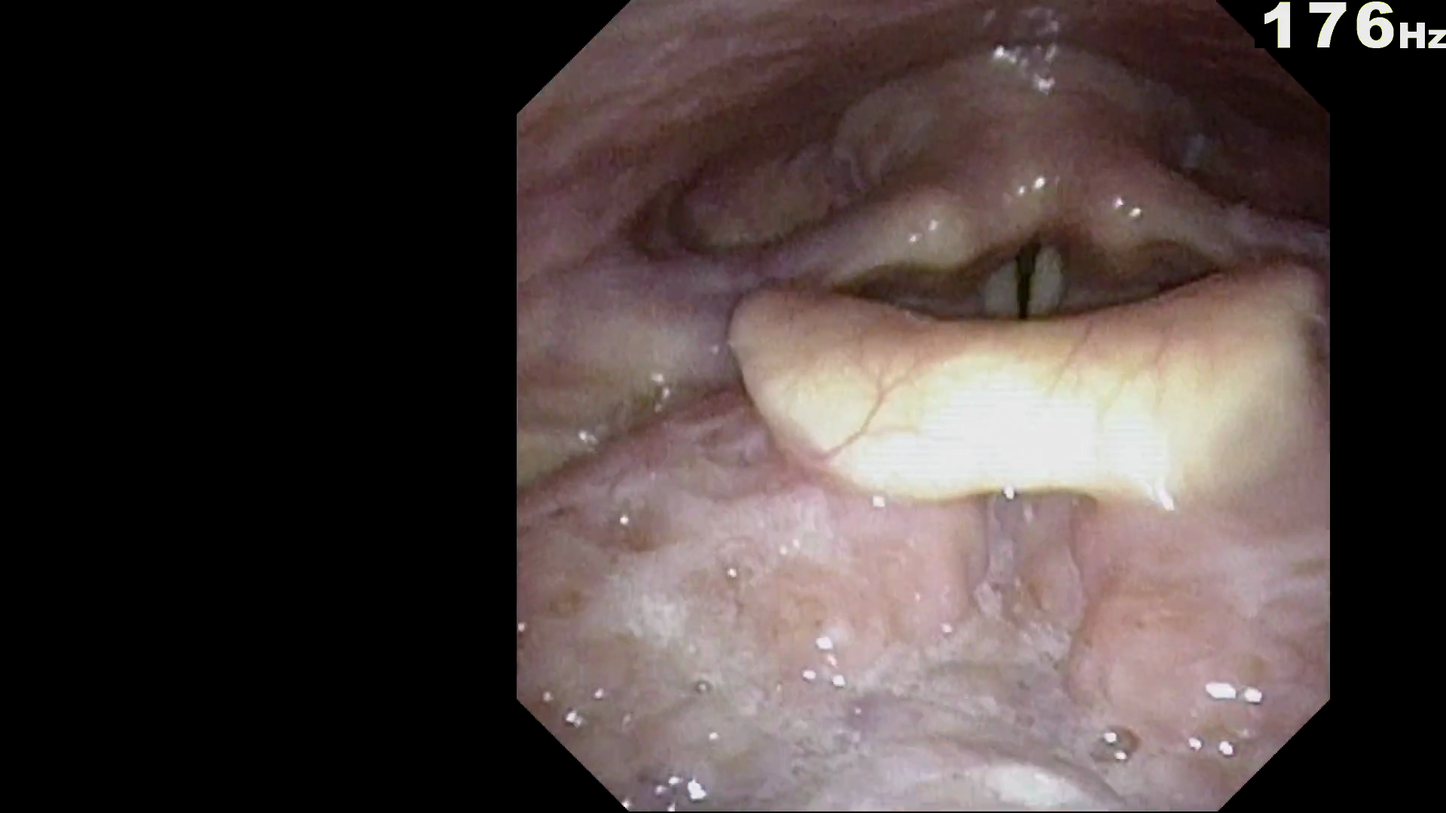epiglottis: (725, 245, 1321, 529)
trachea: (959, 219, 1105, 373)
